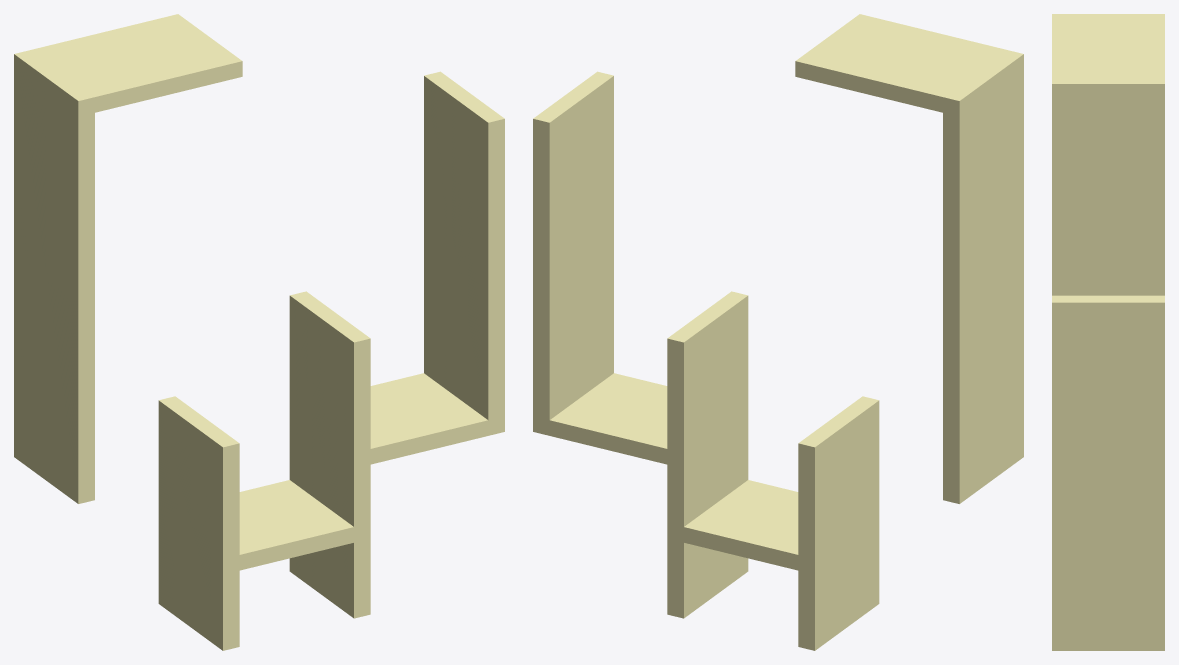
The picture shows the model from 3 angles, left to right: view 1: azimuth 30°, elevation 25°; view 2: azimuth 150°, elevation 25°; view 3: azimuth 270°, elevation 25°; orthographic projection. The views are drawn at different scales.
Parts seen in each view (by area): view 1: Wall__5_, Wall__7_, Wall__8_, Wall__10_, Wall_8__5_, Wall_8__4_, Wall_8__2_; view 2: Wall__5_, Wall__7_, Wall__8_, Wall__10_, Wall_8__5_, Wall_8__4_, Wall_8__2_; view 3: Wall__7_, Wall__5_, Wall_8__5_, Wall__8_.
Boxes of the visible parts, <box> form: Wall__5_: <box>14,50,94,503</box>; Wall__7_: <box>424,71,504,432</box>; Wall__8_: <box>289,291,370,618</box>; Wall__10_: <box>158,396,239,650</box>; Wall_8__5_: <box>31,14,242,113</box>; Wall_8__4_: <box>354,373,502,468</box>; Wall_8__2_: <box>223,480,367,574</box>; Wall__5_: <box>943,50,1023,503</box>; Wall__7_: <box>533,71,613,432</box>; Wall__8_: <box>667,291,748,618</box>; Wall__10_: <box>798,396,879,650</box>; Wall_8__5_: <box>795,14,1006,113</box>; Wall_8__4_: <box>535,373,683,468</box>; Wall_8__2_: <box>670,480,814,574</box>; Wall__7_: <box>1052,295,1164,576</box>; Wall__5_: <box>1052,14,1164,295</box>; Wall_8__5_: <box>1052,21,1164,97</box>; Wall__8_: <box>1052,577,1164,650</box>.
Bounding box in the file's own units: 410 × 538 × 107.
